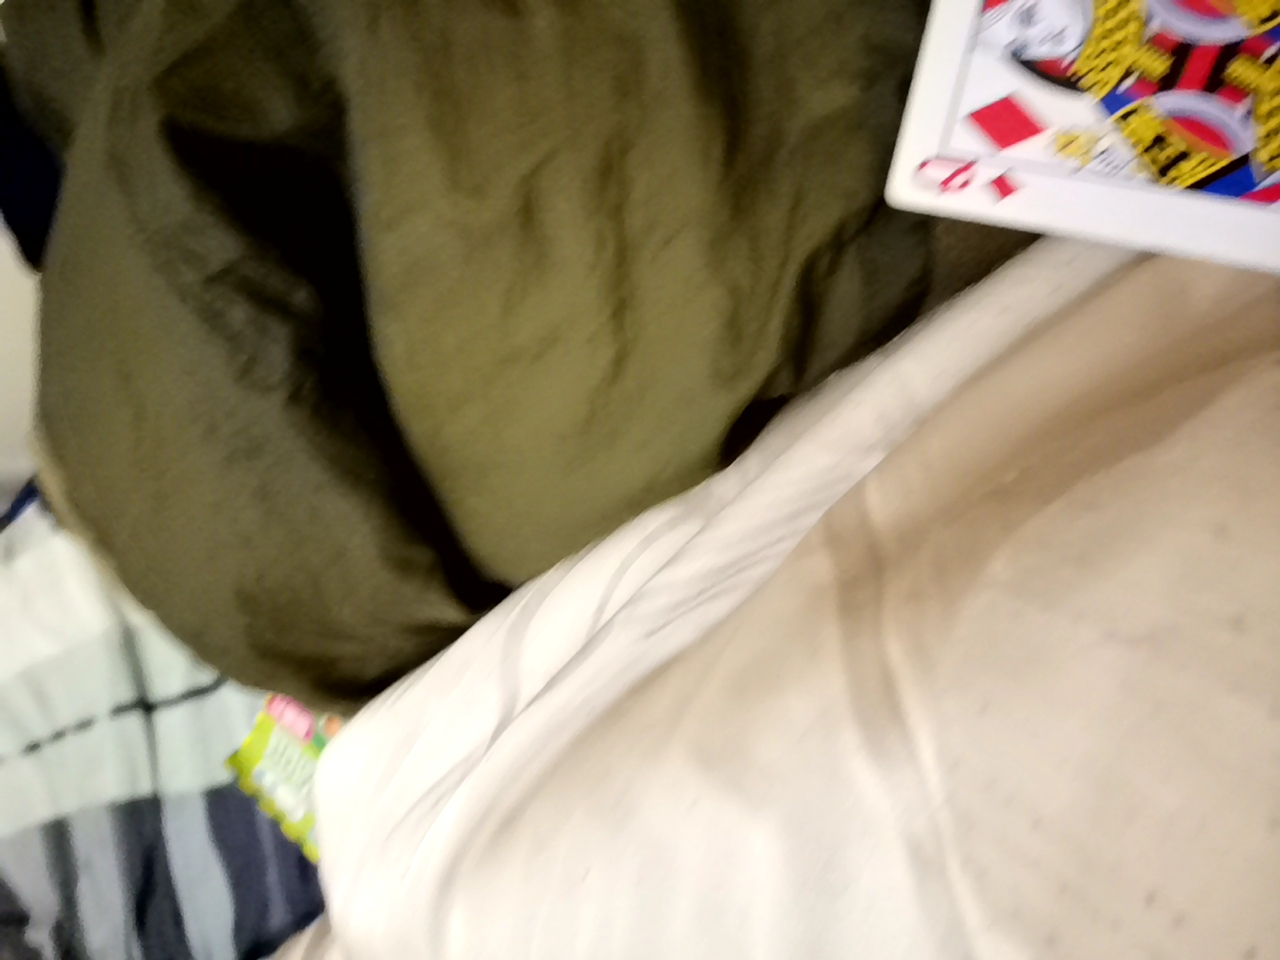fk q: (940, 0, 1276, 282)
